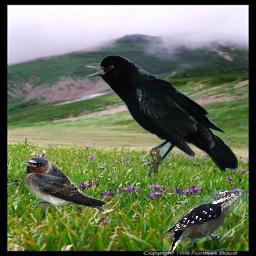Crow: (84, 55, 238, 178)
Swallow: (21, 156, 107, 212)
Woodpecker: (163, 190, 246, 254)
